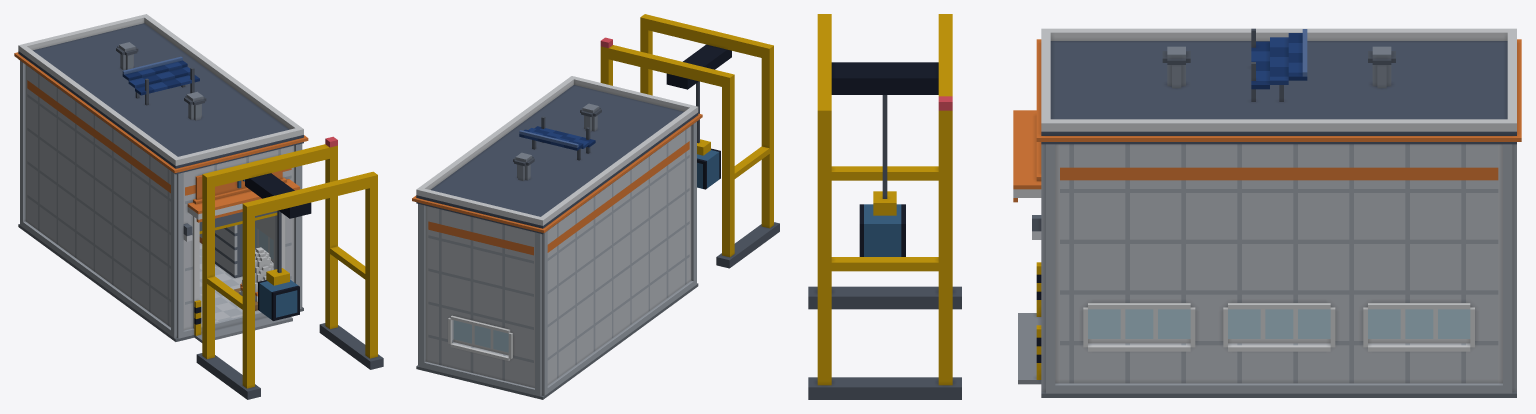
Rendered from workshop_e3_l3.glb.
The picture shows the model from 3 angles, left to right: view 1: azimuth 30°, elevation 25°; view 2: azimuth 150°, elevation 25°; view 3: azimuth 270°, elevation 25°; orthographic projection. The views are drawn at different scales.
Visible parts, largest first — view 1: Base, CutRoof, CutNX, CutPZ, CutNZ, CutPX; view 2: CutRoof, Base, CutNX, CutNZ, CutPZ; view 3: CutPX, CutRoof, Base, CutPZ, CutNZ.
Part boxes in pixels (bbox=[...]): Base: bbox=[18, 136, 383, 399]; CutRoof: bbox=[14, 14, 308, 174]; CutNX: bbox=[27, 66, 170, 307]; CutPZ: bbox=[171, 143, 302, 313]; CutNZ: bbox=[20, 60, 27, 202]; CutPX: bbox=[255, 216, 273, 264]; CutRoof: bbox=[412, 76, 702, 234]; Base: bbox=[416, 14, 779, 399]; CutNX: bbox=[547, 127, 689, 365]; CutNZ: bbox=[418, 204, 547, 371]; CutPZ: bbox=[689, 122, 696, 261]; CutPX: bbox=[1060, 144, 1498, 353]; CutRoof: bbox=[1036, 28, 1521, 144]; Base: bbox=[808, 14, 1516, 399]; CutPZ: bbox=[1013, 110, 1059, 355]; CutNZ: bbox=[1498, 144, 1516, 355].
Size of the model in its own units: 5.1 by 7.2 by 15.3.
